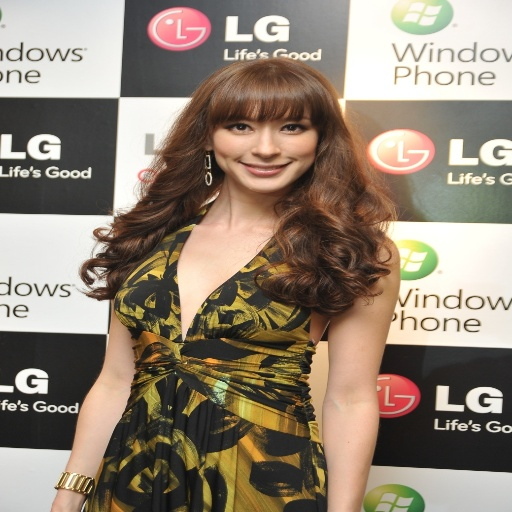hand: (45, 491, 81, 511)
